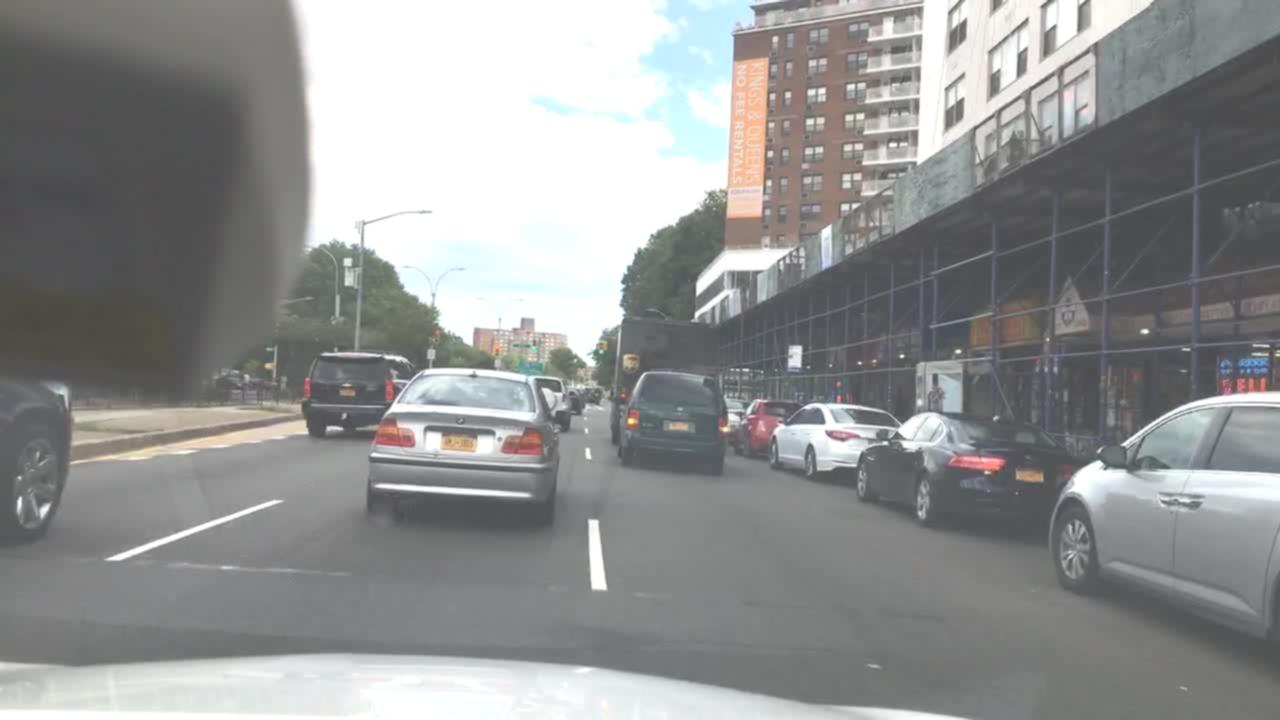bmw: (452, 413, 471, 427)
chevrolet: (339, 380, 356, 389)
